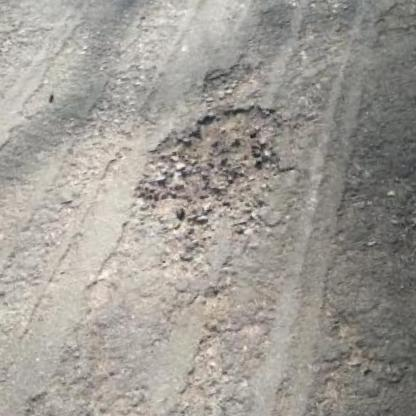pothole: (131, 100, 310, 257), (194, 57, 258, 106)
